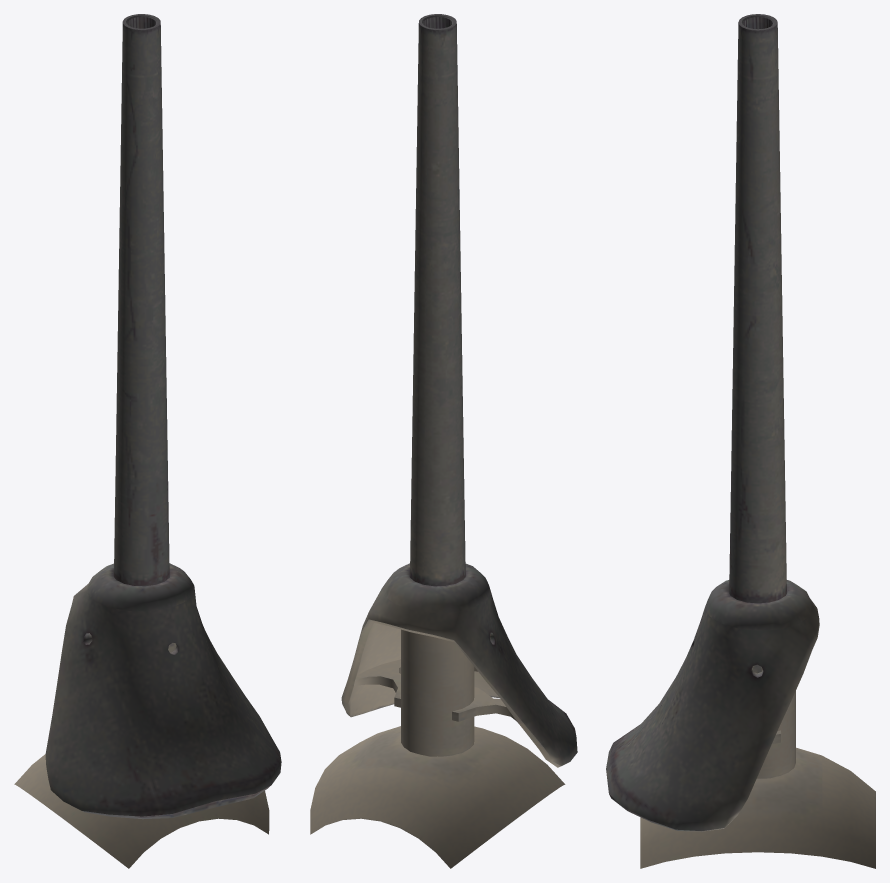
Rendered from Gun_02.glb.
The picture shows the model from 3 angles, left to right: view 1: azimuth 30°, elevation 25°; view 2: azimuth 150°, elevation 25°; view 3: azimuth 270°, elevation 25°; orthographic projection. The views are drawn at different scales.
Parts seen in each view (by area): view 1: set_0_group_0; view 2: set_0_group_0; view 3: set_0_group_0.
Part boxes in pixels (left/top/right/bottom): set_0_group_0: left=14, top=14, right=281, bottom=868; set_0_group_0: left=310, top=14, right=577, bottom=868; set_0_group_0: left=606, top=14, right=875, bottom=868.
Size of the model in its own units: 0.6465 by 2.26 by 0.6801.
Materials: 1 (1 with a texture image).
